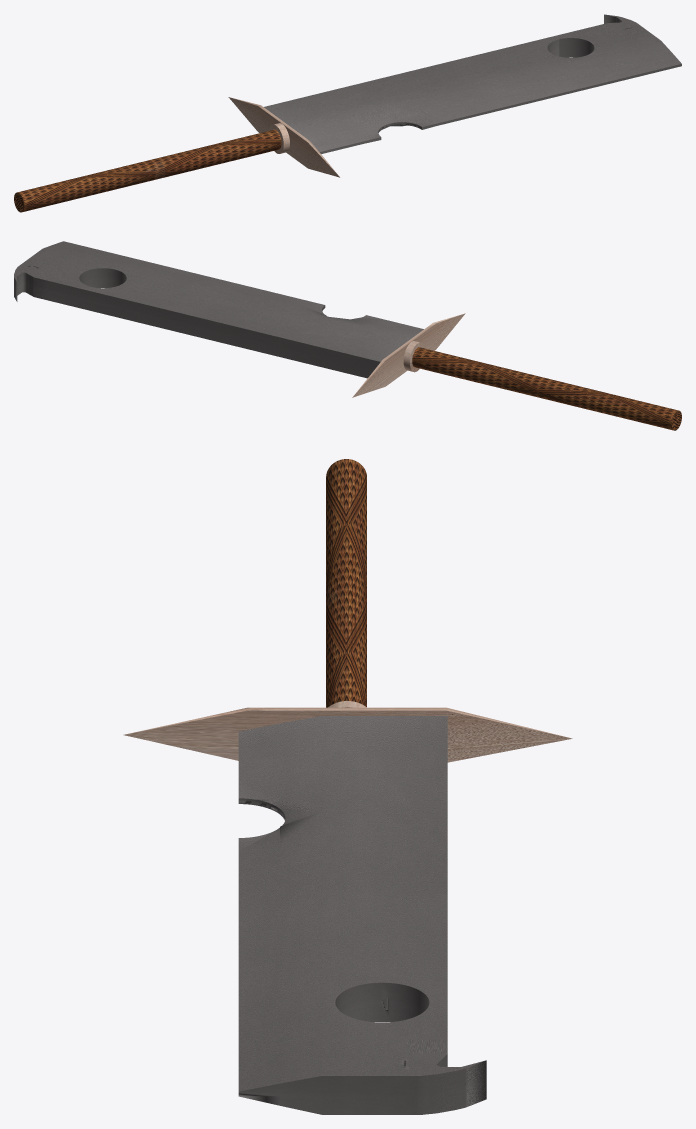
The model's file is Kubikiribocho.obj.
The picture shows the model from 3 angles, top to bottom: view 1: azimuth 30°, elevation 25°; view 2: azimuth 150°, elevation 25°; view 3: azimuth 270°, elevation 25°; orthographic projection. The views are drawn at different scales.
Parts seen in each view (by area): view 1: Box001, Cylinder003, Box002, Tube001; view 2: Box001, Cylinder003, Box002, Tube001; view 3: Box001, Cylinder003, Box002.
Part boxes in pixels (x1,y1,x2,y2): Box001: (264,14,681,154); Cylinder003: (14,129,281,212); Box002: (228,97,339,177); Tube001: (269,123,289,153); Box001: (14,241,423,378); Cylinder003: (412,347,681,430); Box002: (352,313,465,397); Tube001: (403,341,424,372); Box001: (238,716,486,1114); Cylinder003: (326,459,366,707); Box002: (123,707,572,762).
Size of the model in its own units: 136 by 5.59 by 41.69.
